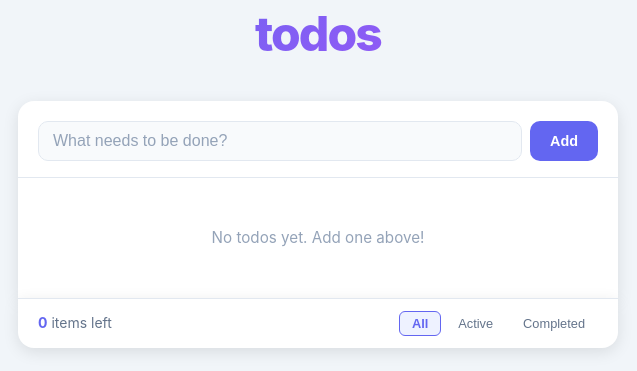
Scenario: App › adding todos › adds a todo and displays it in the list
Type "Buy milk" into the field named "new todo text".
click(280, 141); type("Buy milk")  # box [38,121,522,161]
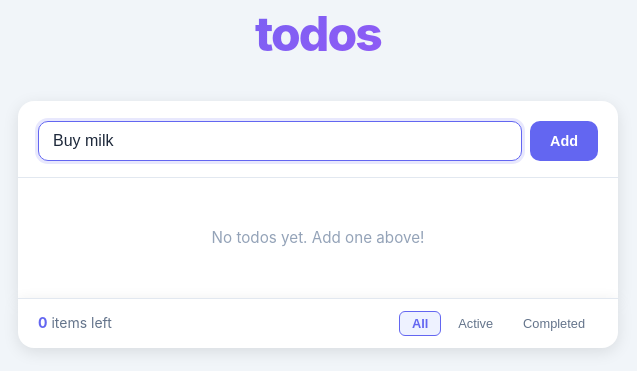
Click the button with aria-label "add todo".
click(564, 141)  # box [530,121,598,161]
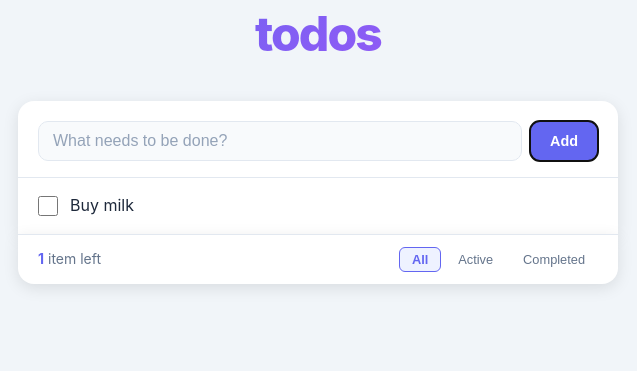
Check: the text "Buy milk" is shown, box [70,195,134,215]
